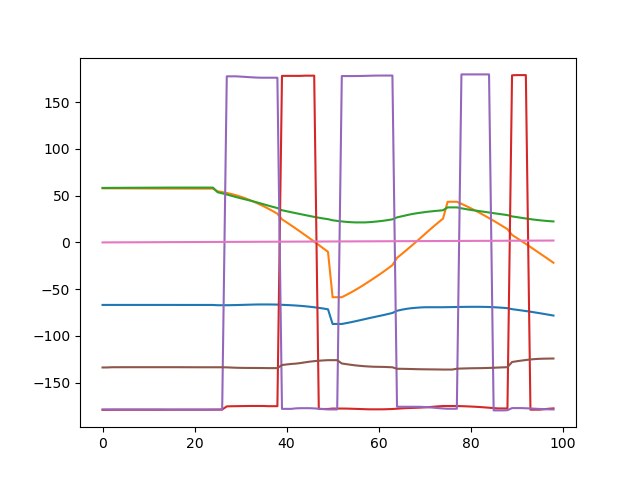Too_Fast: (2, 1, 640, 477)
